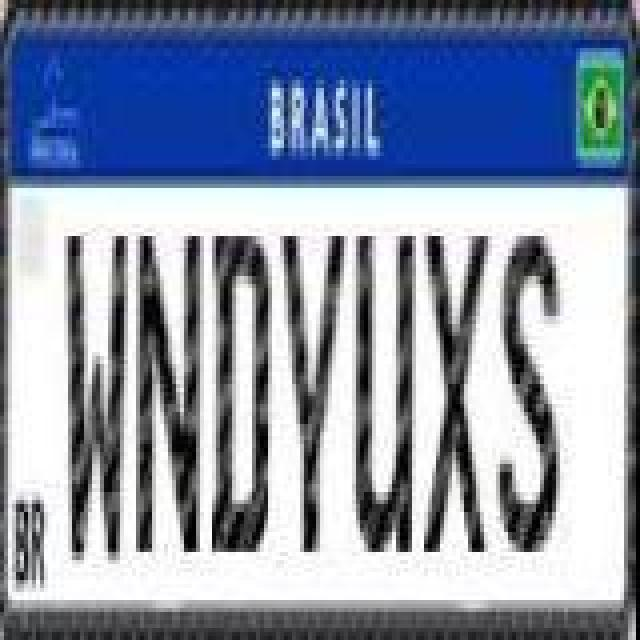D: (210, 224, 274, 560)
N: (136, 230, 204, 554)
S: (498, 230, 562, 554)
U: (356, 224, 416, 560)
W: (64, 232, 124, 568)
X: (422, 230, 486, 554)
Y: (280, 230, 348, 554)
